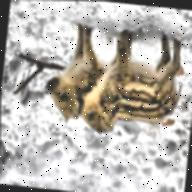boar: (81, 33, 192, 142), (38, 22, 143, 134)
